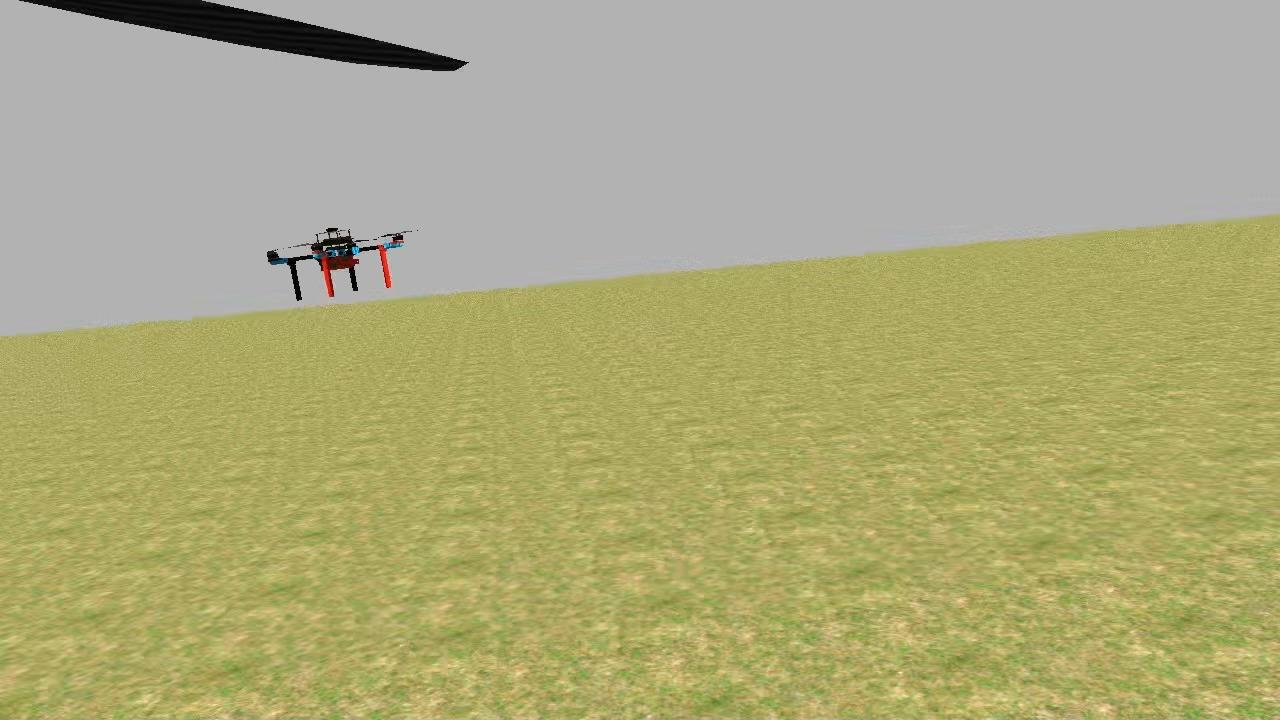UAV: (243, 207, 434, 319)
